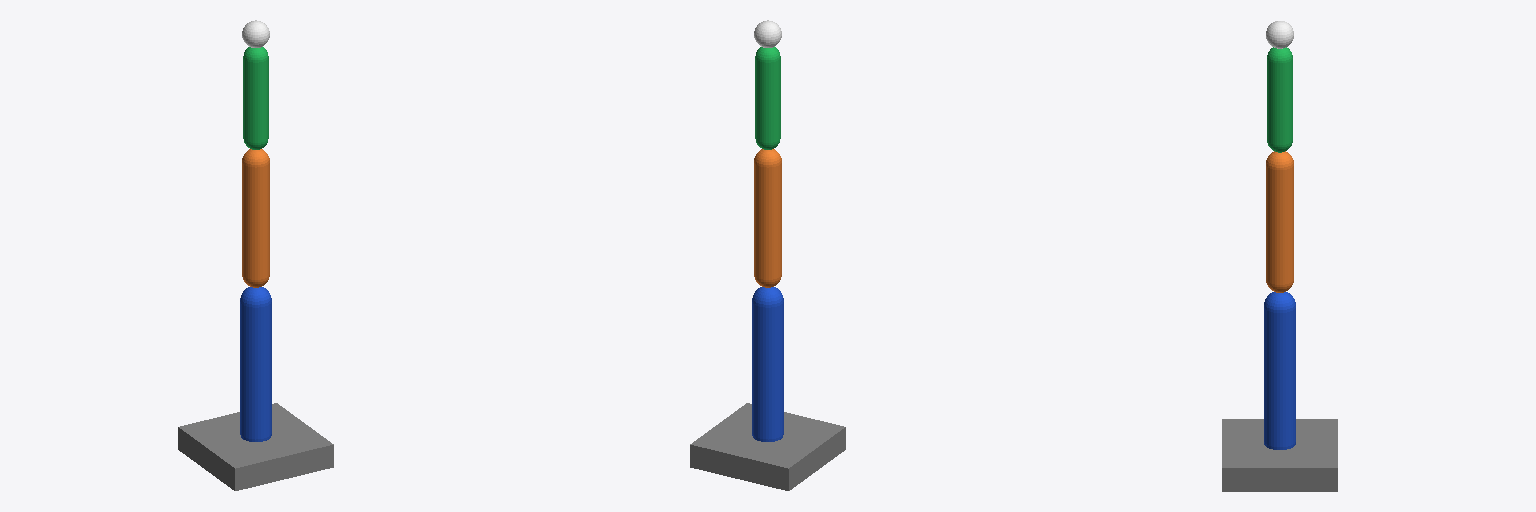
The robot description file, URDF, robot "robomesh_three_link_capsule":
<?xml version="1.0"?>
<robot name="robomesh_three_link_capsule">
  <link name="base_link">
    <visual>
      <origin xyz="0 0 0" rpy="0 0 0"/>
      <geometry>
        <box size="0.18 0.18 0.04"/>
      </geometry>
      <material name="base_gray">
        <color rgba="0.55 0.55 0.55 1"/>
      </material>
    </visual>
  </link>

  <link name="upper_link">
    <!-- Capsule: radius 0.025, length 0.28 -->
    <visual>
      <origin xyz="0 0 0.14" rpy="0 0 0"/>
      <geometry>
        <cylinder radius="0.025" length="0.23"/>
      </geometry>
      <material name="blue">
        <color rgba="0.2 0.4 0.85 1"/>
      </material>
    </visual>
    <visual>
      <origin xyz="0 0 0.025" rpy="0 0 0"/>
      <geometry>
        <sphere radius="0.025"/>
      </geometry>
      <material name="blue"/>
    </visual>
    <visual>
      <origin xyz="0 0 0.255" rpy="0 0 0"/>
      <geometry>
        <sphere radius="0.025"/>
      </geometry>
      <material name="blue"/>
    </visual>
  </link>

  <link name="forearm_link">
    <!-- Capsule: radius 0.022, length 0.24 -->
    <visual>
      <origin xyz="0 0 0.12" rpy="0 0 0"/>
      <geometry>
        <cylinder radius="0.022" length="0.196"/>
      </geometry>
      <material name="orange">
        <color rgba="0.95 0.55 0.25 1"/>
      </material>
    </visual>
    <visual>
      <origin xyz="0 0 0.022" rpy="0 0 0"/>
      <geometry>
        <sphere radius="0.022"/>
      </geometry>
      <material name="orange"/>
    </visual>
    <visual>
      <origin xyz="0 0 0.218" rpy="0 0 0"/>
      <geometry>
        <sphere radius="0.022"/>
      </geometry>
      <material name="orange"/>
    </visual>
  </link>

  <link name="wrist_link">
    <!-- Capsule: radius 0.02, length 0.18 -->
    <visual>
      <origin xyz="0 0 0.09" rpy="0 0 0"/>
      <geometry>
        <cylinder radius="0.02" length="0.14"/>
      </geometry>
      <material name="green">
        <color rgba="0.2 0.75 0.4 1"/>
      </material>
    </visual>
    <visual>
      <origin xyz="0 0 0.02" rpy="0 0 0"/>
      <geometry>
        <sphere radius="0.02"/>
      </geometry>
      <material name="green"/>
    </visual>
    <visual>
      <origin xyz="0 0 0.16" rpy="0 0 0"/>
      <geometry>
        <sphere radius="0.02"/>
      </geometry>
      <material name="green"/>
    </visual>
  </link>

  <link name="hand_link">
    <visual>
      <origin xyz="0 0 0.02" rpy="0 0 0"/>
      <geometry>
        <sphere radius="0.022"/>
      </geometry>
      <material name="hand">
        <color rgba="0.95 0.95 0.95 1"/>
      </material>
    </visual>
  </link>

  <joint name="shoulder" type="revolute">
    <origin xyz="0 0 0" rpy="0 0 0"/>
    <parent link="base_link"/>
    <child link="upper_link"/>
    <axis xyz="0 1 0"/>
    <limit lower="-3.14" upper="3.14" effort="1" velocity="1"/>
  </joint>

  <joint name="elbow" type="revolute">
    <origin xyz="0 0 0.28" rpy="0 0 0"/>
    <parent link="upper_link"/>
    <child link="forearm_link"/>
    <axis xyz="0 1 0"/>
    <limit lower="-3.14" upper="3.14" effort="1" velocity="1"/>
  </joint>

  <joint name="wrist" type="revolute">
    <origin xyz="0 0 0.24" rpy="0 0 0"/>
    <parent link="forearm_link"/>
    <child link="wrist_link"/>
    <axis xyz="0 1 0"/>
    <limit lower="-3.14" upper="3.14" effort="1" velocity="1"/>
  </joint>

  <joint name="tool_mount" type="fixed">
    <origin xyz="0 0 0.18" rpy="0 0 0"/>
    <parent link="wrist_link"/>
    <child link="hand_link"/>
  </joint>
</robot>

--- What the picture shows (computed from the rendered views, not written in the file) ---
Views: 3 orthographic renders of the robot side by side, from view 1: azimuth 30°, elevation 25°; view 2: azimuth 150°, elevation 25°; view 3: azimuth 270°, elevation 25°.
Model robomesh_three_link_capsule with 5 links and 4 joints (3 revolute, 1 fixed), rooted at base_link, posed every joint at zero.
Visible links, largest first — view 1: base_link, upper_link, forearm_link, wrist_link, hand_link; view 2: base_link, upper_link, forearm_link, wrist_link, hand_link; view 3: base_link, upper_link, forearm_link, wrist_link, hand_link.
Link boxes in pixels (x1=…): base_link: x1=178, y1=403, x2=333, y2=490; upper_link: x1=240, y1=287, x2=271, y2=441; forearm_link: x1=242, y1=149, x2=269, y2=287; wrist_link: x1=243, y1=47, x2=268, y2=149; hand_link: x1=242, y1=20, x2=269, y2=47; base_link: x1=690, y1=403, x2=845, y2=490; upper_link: x1=752, y1=287, x2=783, y2=441; forearm_link: x1=754, y1=149, x2=781, y2=287; wrist_link: x1=755, y1=47, x2=780, y2=149; hand_link: x1=754, y1=20, x2=781, y2=47; base_link: x1=1222, y1=419, x2=1337, y2=491; upper_link: x1=1264, y1=292, x2=1295, y2=449; forearm_link: x1=1266, y1=151, x2=1293, y2=292; wrist_link: x1=1267, y1=47, x2=1292, y2=152; hand_link: x1=1266, y1=21, x2=1293, y2=48.
Bounding box of the posed robot: 0.18 × 0.18 × 0.762 m (x, y, z).
Geometry: primitives only (box / cylinder / sphere), no mesh files.